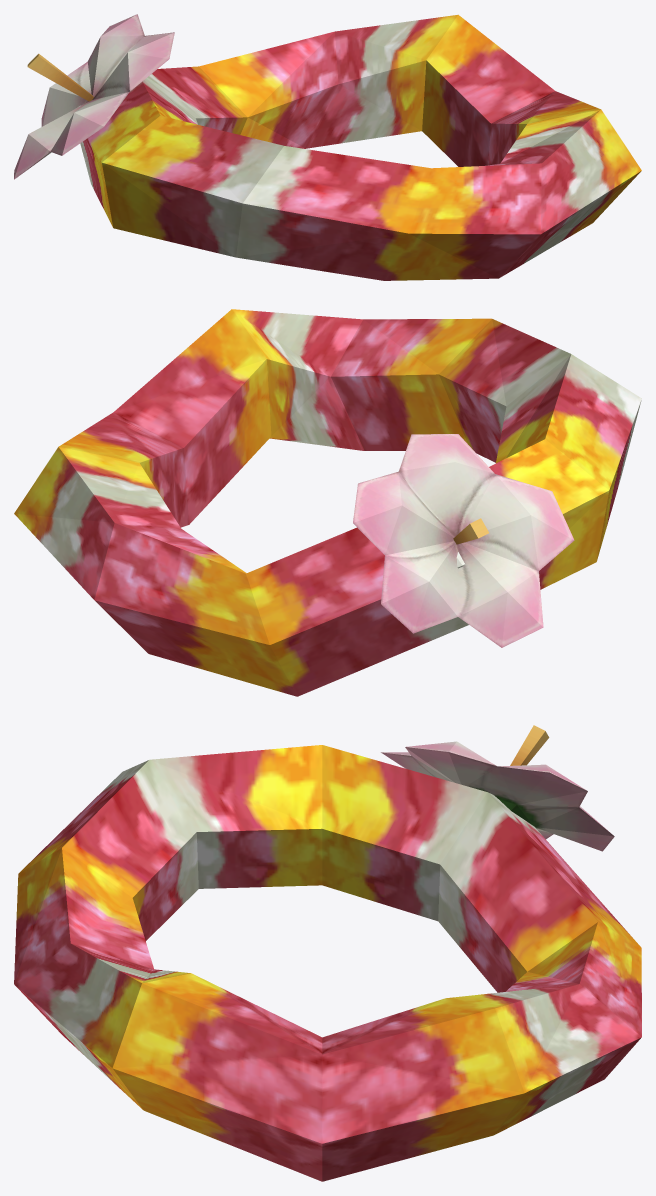
The model's file is Penguin_garland.obj.
The picture shows the model from 3 angles, top to bottom: view 1: azimuth 30°, elevation 25°; view 2: azimuth 150°, elevation 25°; view 3: azimuth 270°, elevation 25°; orthographic projection. The views are drawn at different scales.
Parts seen in each view (by area): view 1: Penguin_garland_tri; view 2: Penguin_garland_tri; view 3: Penguin_garland_tri.
Part boxes in pixels (x1,y1,x2,y2): Penguin_garland_tri: (14, 14, 641, 280); Penguin_garland_tri: (14, 309, 641, 696); Penguin_garland_tri: (14, 725, 641, 1181).
Bounding box in the file's own units: 0.4444 × 0.1784 × 0.4106.
Materials: 1 (1 with a texture image).
